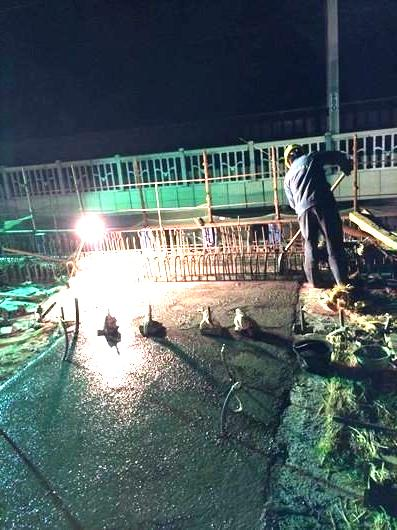helmet: (283, 144, 303, 168)
